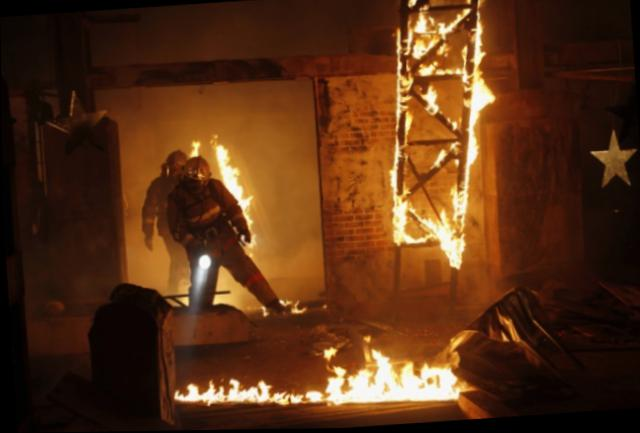fire: (322, 0, 573, 278), (147, 291, 496, 430), (134, 109, 317, 331)
